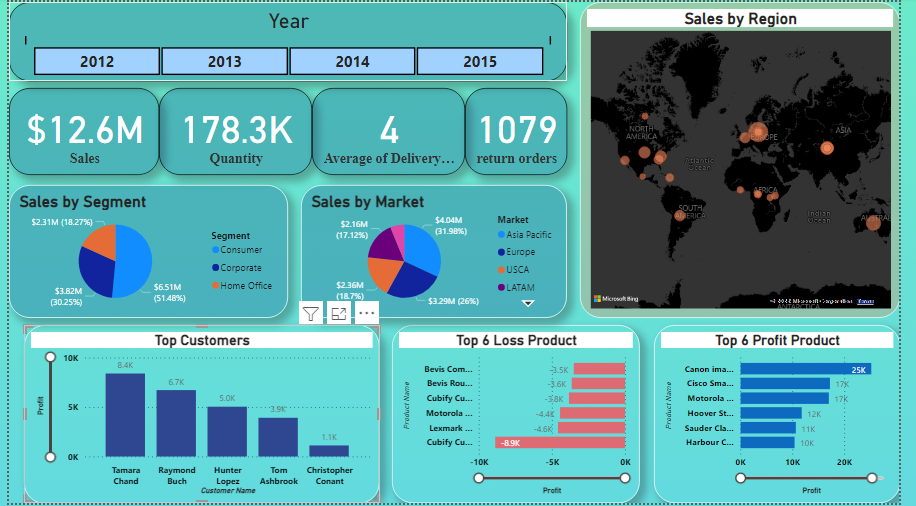

What the dashboard file says about the page in this screenshot:
{"tool":"powerbi","page":{"name":"PROJECT1","canvas":[1280,720],"ordinal":0},"visuals":[{"type":"card","fields":{"Values":["Orders.Sales"]},"box":[0,123.6,215.6,125],"z":0},{"type":"card","fields":{"Values":["Orders.Quantity"]},"box":[215.6,123.6,219.9,125],"z":1000},{"type":"card","fields":{"Values":["Orders.Delivery_days"]},"box":[435.4,123.6,219.9,125],"z":2000},{"type":"slicer","title":"Year","fields":{"Values":["Orders.year"]},"box":[0,0,801.9,113.5],"z":3000},{"type":"card","fields":{"Values":["Returns.return orders"]},"box":[655.3,123.6,146.6,125],"z":4000},{"type":"map","fields":{"Category":["Orders.Region"],"Size":["Orders.Sales"]},"box":[820.6,0,459.9,454.1],"z":5000},{"type":"barChart","title":"Top 6 Profit Product ","fields":{"Category":["Orders.Product Name"],"Y":["Orders.Profit"]},"box":[926.9,464.2,353.5,255.8],"z":6000},{"type":"barChart","title":"Top 6 Loss Product","fields":{"Category":["Orders.Product Name"],"Y":["Orders.Profit"]},"box":[550.4,464.2,356.4,255.8],"z":7000},{"type":"pieChart","fields":{"Y":["Orders.Sales"],"Category":["Orders.Segment"]},"box":[0,263,401,191.1],"z":8000},{"type":"pieChart","fields":{"Y":["Orders.Sales"],"Category":["Orders.Market"]},"box":[419.6,263,382.3,191.1],"z":9000},{"type":"columnChart","title":"Top  Customers","fields":{"Y":["Orders.Profit"],"Category":["Orders.Customer Name"]},"box":[21.8,463.6,510.7,257],"z":10000}]}

Visuals, with their boxes in screenshot pixels (x1, y1, x2, y2), scaled from the page's 1280x720 canvas onto the 916x506 screenshot:
card - Orders.Sales: detection(0, 87, 154, 175)
card - Orders.Quantity: detection(154, 87, 312, 175)
card - Orders.Delivery_days: detection(312, 87, 469, 175)
"Year" slicer: detection(0, 0, 574, 80)
card - Returns.return orders: detection(469, 87, 574, 175)
map - Orders.Region x Orders.Sales: detection(587, 0, 915, 319)
"Top 6 Profit Product " barChart: detection(663, 326, 915, 505)
"Top 6 Loss Product" barChart: detection(394, 326, 649, 505)
pieChart - Orders.Sales x Orders.Segment: detection(0, 185, 287, 319)
pieChart - Orders.Sales x Orders.Market: detection(300, 185, 574, 319)
"Top  Customers" columnChart: detection(16, 326, 381, 505)
